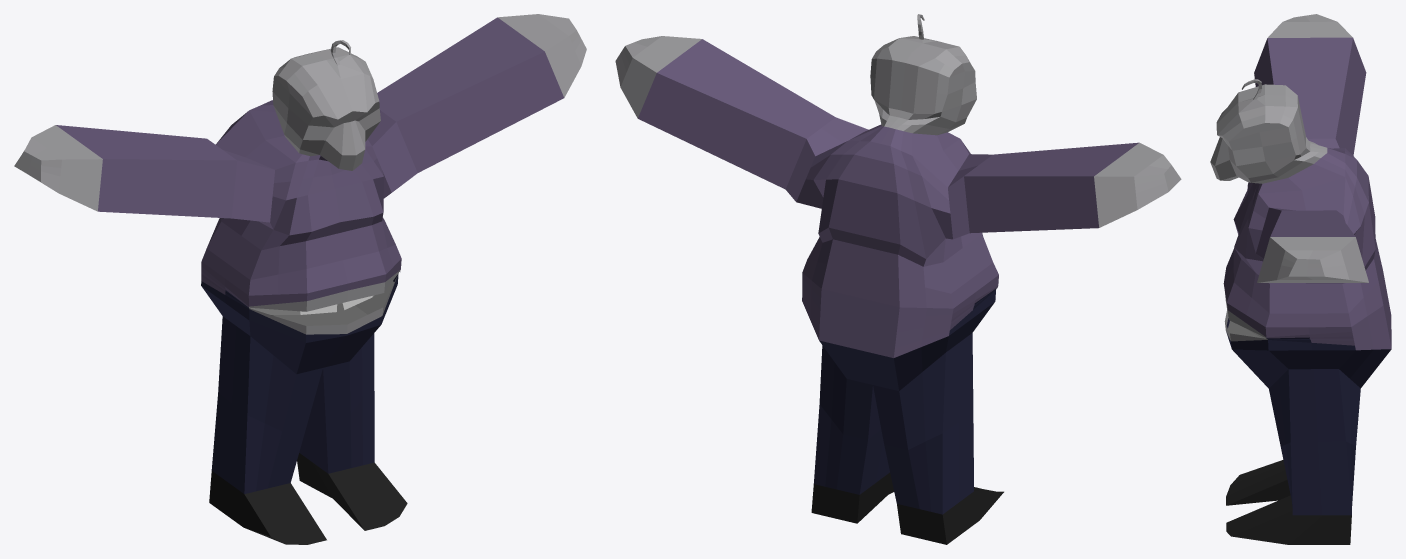
Rendered from duhecbuhec-zlikovec6brezgat.fbx.
3 renders of one model, left to right at view 1: azimuth 30°, elevation 25°; view 2: azimuth 150°, elevation 25°; view 3: azimuth 270°, elevation 25°, orthographic. The views are drawn at different scales.
Parts seen in each view (by area): view 1: Cube.001; view 2: Cube.001; view 3: Cube.001.
Boxes of the visible parts, box(x1,y1,x2,y2) form: Cube.001: box(14, 14, 586, 544); Cube.001: box(615, 14, 1181, 544); Cube.001: box(1210, 14, 1391, 544).
Size of the model in its own units: 254 by 208 by 77.8.
6 materials, 1 textured.
